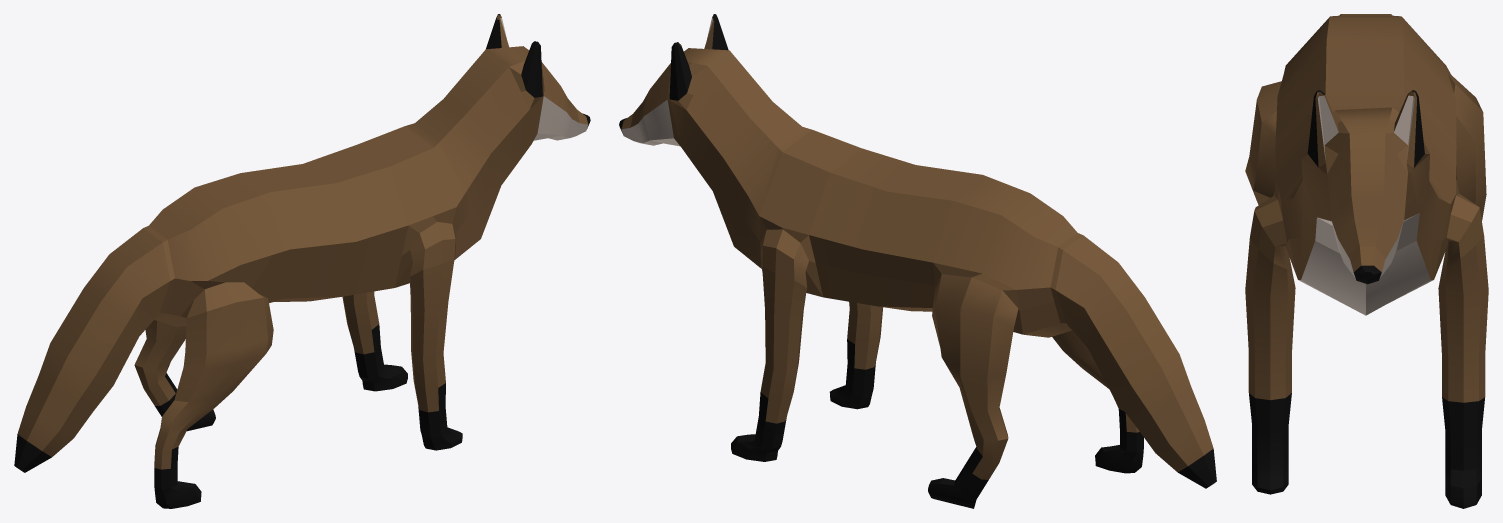
The model's file is Fox 2.fbx.
3 views of the same model, side by side, from view 1: azimuth 30°, elevation 25°; view 2: azimuth 150°, elevation 25°; view 3: azimuth 270°, elevation 25° (orthographic). The views are drawn at different scales.
Visible parts, largest first — view 1: pasted__pCylinder1; view 2: pasted__pCylinder1; view 3: pasted__pCylinder1.
Part boxes in pixels (x1,y1,x2,y2): pasted__pCylinder1: (14, 14, 590, 508); pasted__pCylinder1: (619, 14, 1216, 508); pasted__pCylinder1: (1245, 14, 1488, 508).
Size of the model in its own units: 13.02 by 7.84 by 3.73.
